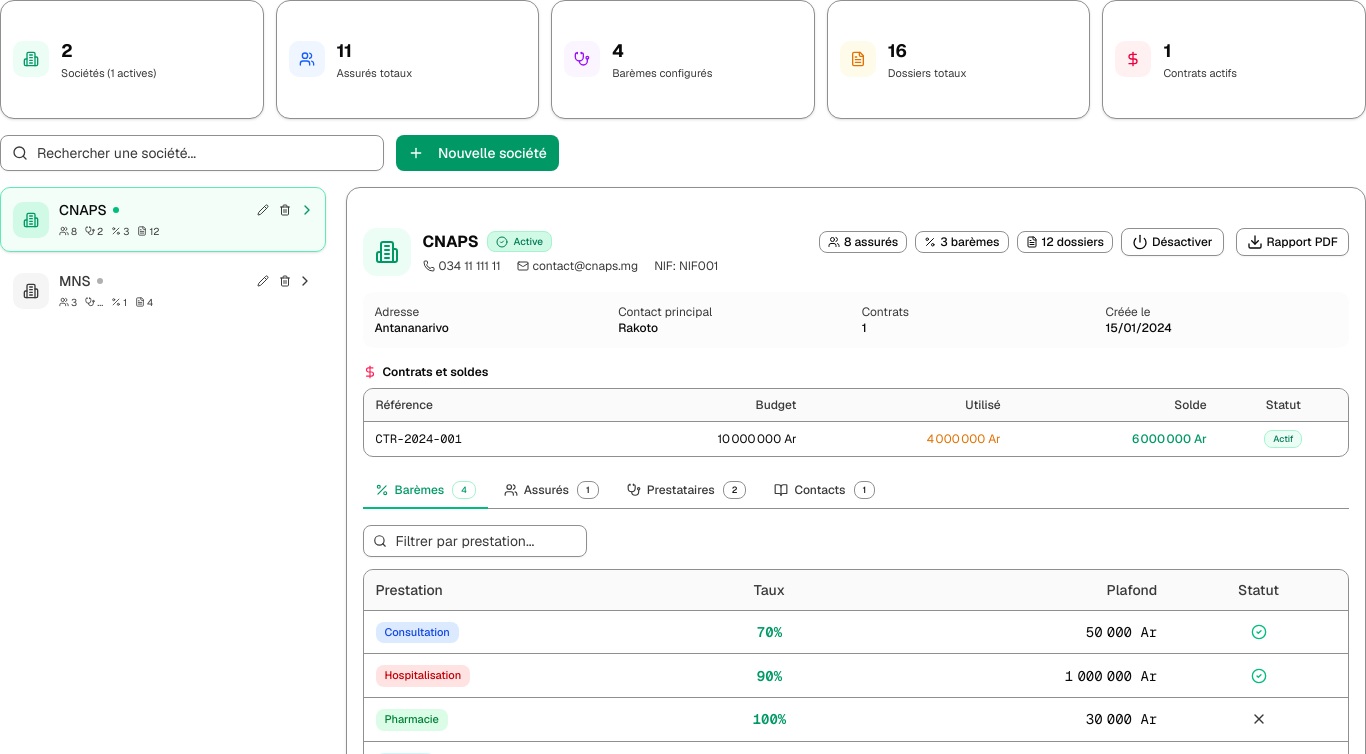
Test case: SocietesView — caractérisation › ouvre le dialog de création de société (rôle autorisé)
This screenshot has width=1366, height=754.
Expected: the text "NIF: NIF001" is shown, 654,258 -> 718,274
Click the button "Nouvelle société": click(477, 152) 396,134 -> 559,170
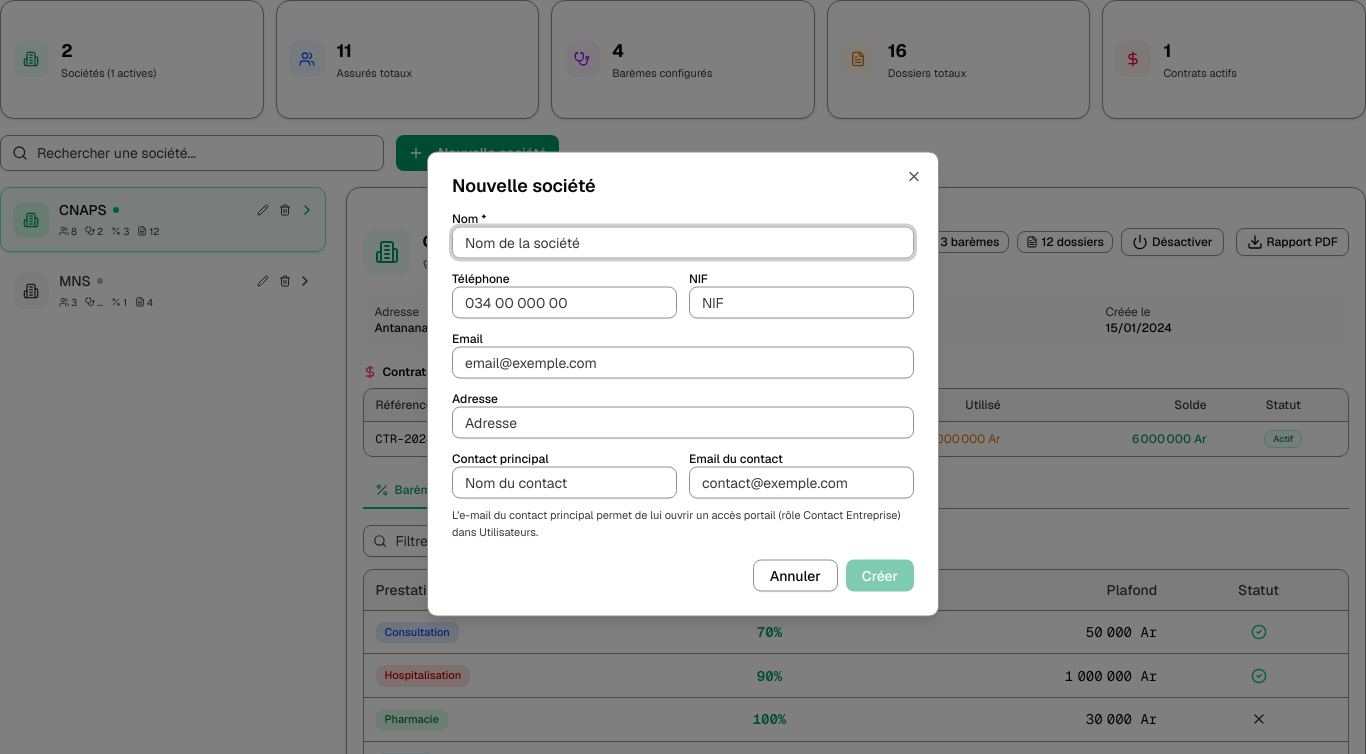
Expected: the heading "Nouvelle société" is shown, 452,174 -> 596,196
Expected: the field with placeholder "Nom de la société" is shown, 452,226 -> 914,258
